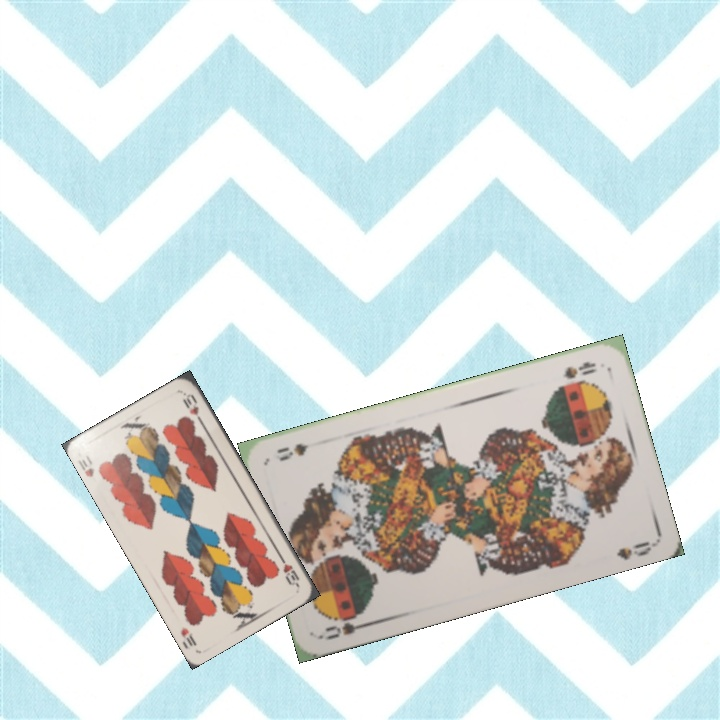H10: (275, 552, 302, 589), (74, 451, 97, 480)
SO: (317, 608, 375, 643), (558, 357, 600, 382)
